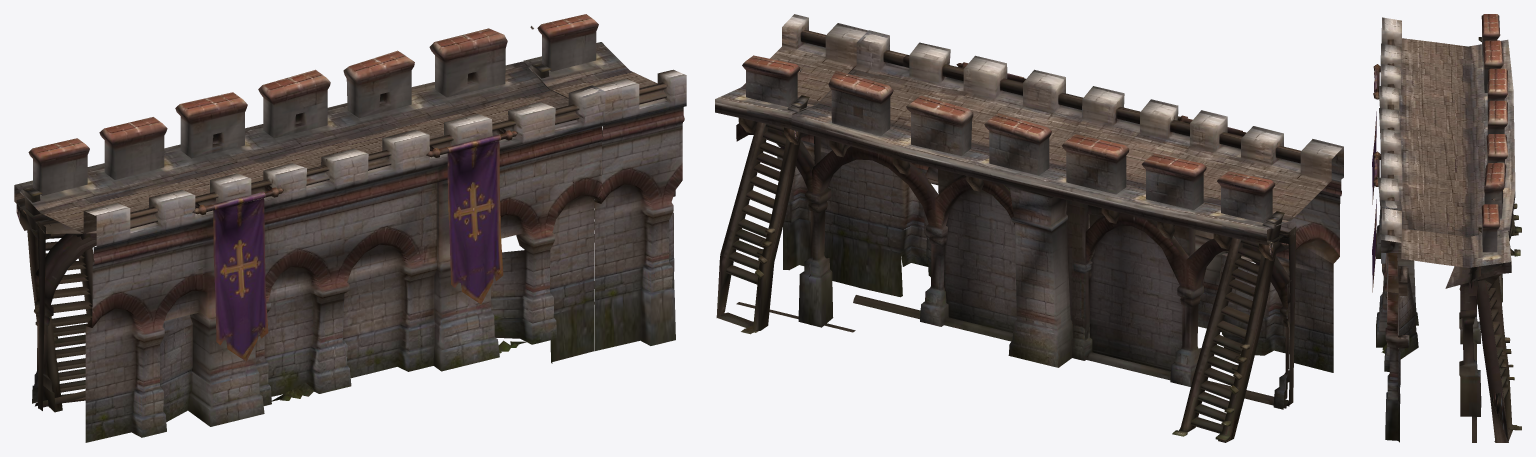
The model's file is WallRunFront_09.fbx.
3 renders of one model, left to right at view 1: azimuth 30°, elevation 25°; view 2: azimuth 150°, elevation 25°; view 3: azimuth 270°, elevation 25°, orthographic. The views are drawn at different scales.
Parts seen in each view (by area): view 1: WallRunFront_09; view 2: WallRunFront_09; view 3: WallRunFront_09.
Boxes of the visible parts, left/top/right/bottom form: WallRunFront_09: left=14, top=14, right=686, bottom=442; WallRunFront_09: left=715, top=14, right=1343, bottom=442; WallRunFront_09: left=1372, top=14, right=1521, bottom=442.
Bounding box in the file's own units: 1418 × 650 × 407.
1 material, 1 textured.
